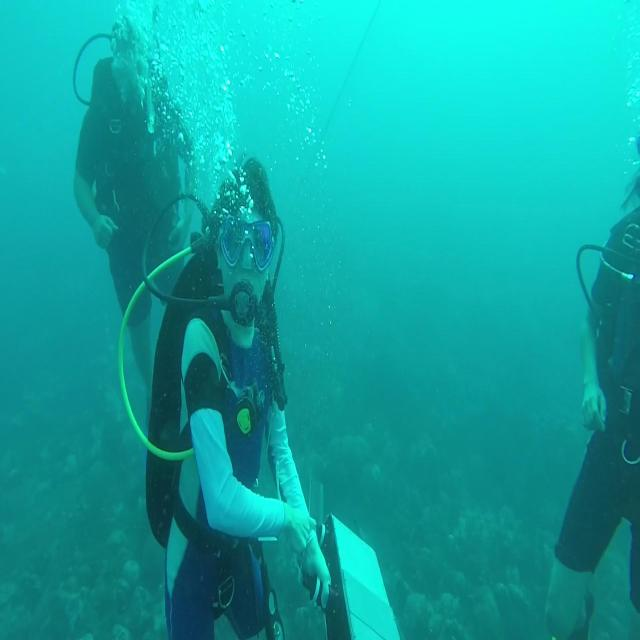human: (144, 155, 335, 638), (72, 12, 198, 393), (544, 142, 639, 638)
